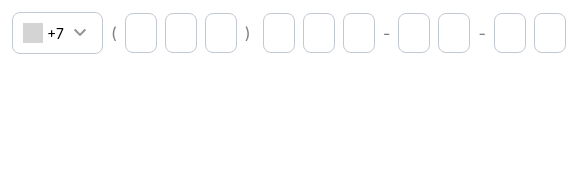
Test case: PhoneInput › вставка › заполняет цифры из буфера обмена
Click the field named "Позиция 1 в номере".
click(141, 33)  # box [125,13,157,53]
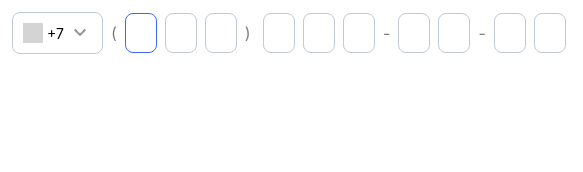
Type keys "9123456789"
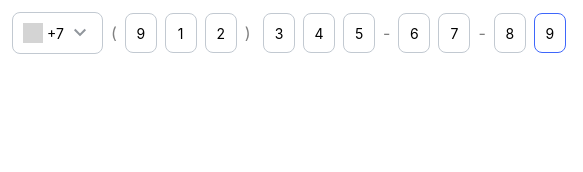
expect the field named "Позиция 1 в номере" holds "9": met, box [125,13,157,53]
